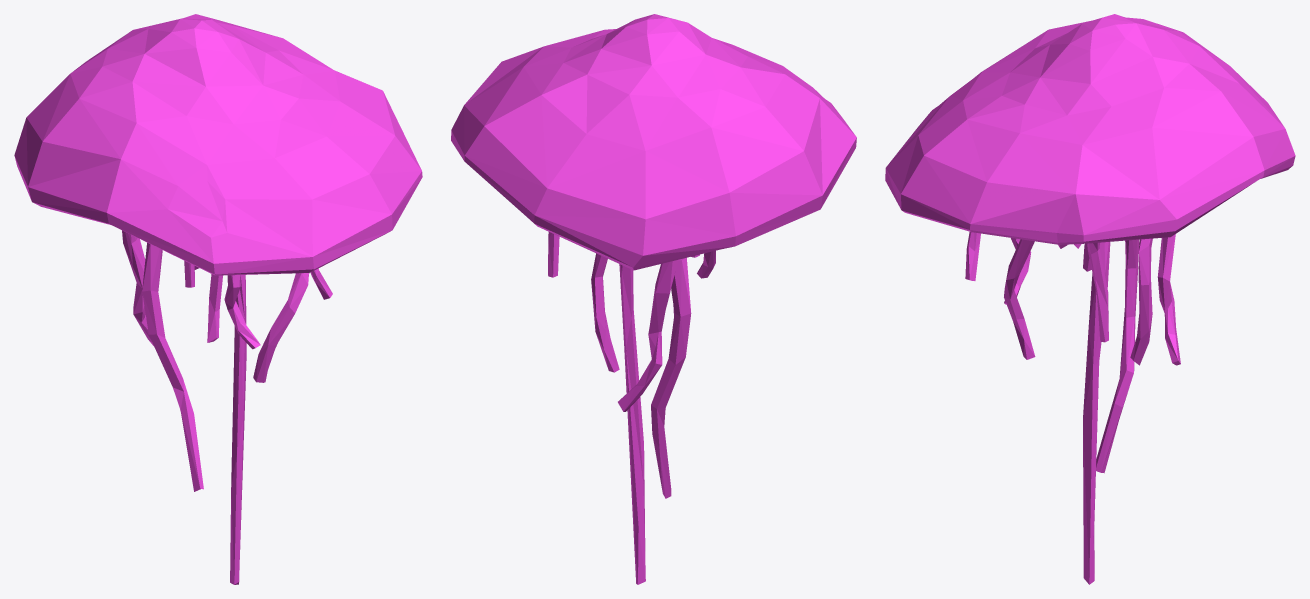
File: SM_Mushroom_Jellyfish_Big_C_Fantasy.fbx
3 renders of one model, left to right at view 1: azimuth 30°, elevation 25°; view 2: azimuth 150°, elevation 25°; view 3: azimuth 270°, elevation 25°, orthographic. The views are drawn at different scales.
Visible parts, largest first — view 1: SM_Mushroom_Jellyfish_Big_C_Fantasy; view 2: SM_Mushroom_Jellyfish_Big_C_Fantasy; view 3: SM_Mushroom_Jellyfish_Big_C_Fantasy.
Part boxes in pixels (x1,y1,x2,y2): SM_Mushroom_Jellyfish_Big_C_Fantasy: (14,14,422,584); SM_Mushroom_Jellyfish_Big_C_Fantasy: (451,14,856,584); SM_Mushroom_Jellyfish_Big_C_Fantasy: (885,14,1295,584).
Bounding box in the file's own units: 1.88 × 2.9 × 1.96.
